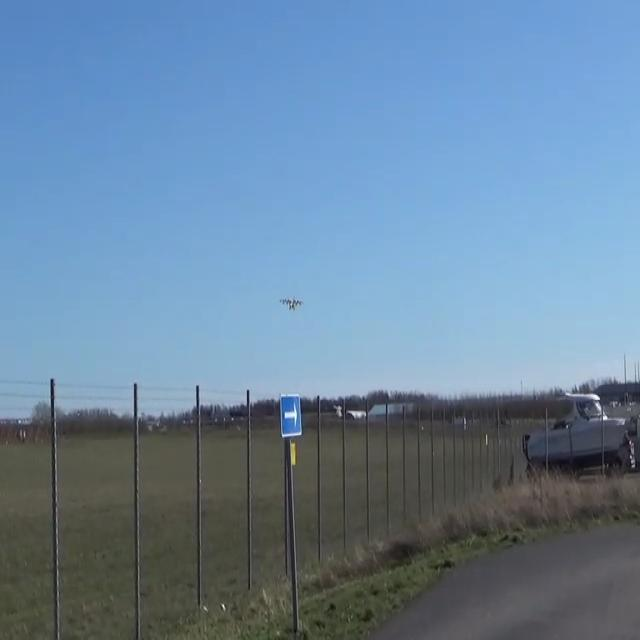AirPlane: (267, 284, 311, 320)
